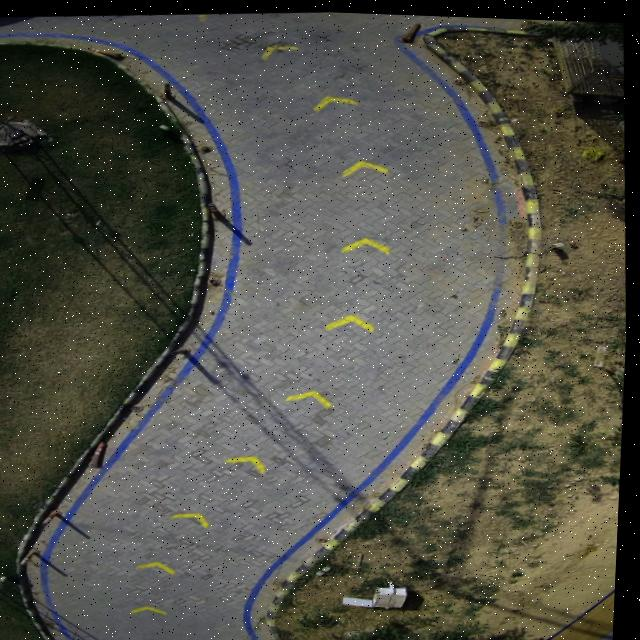No Car: (0, 9, 629, 640)
